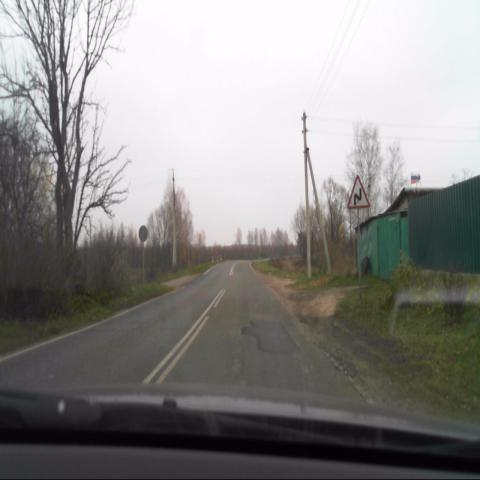1_12: (348, 174, 369, 207)
